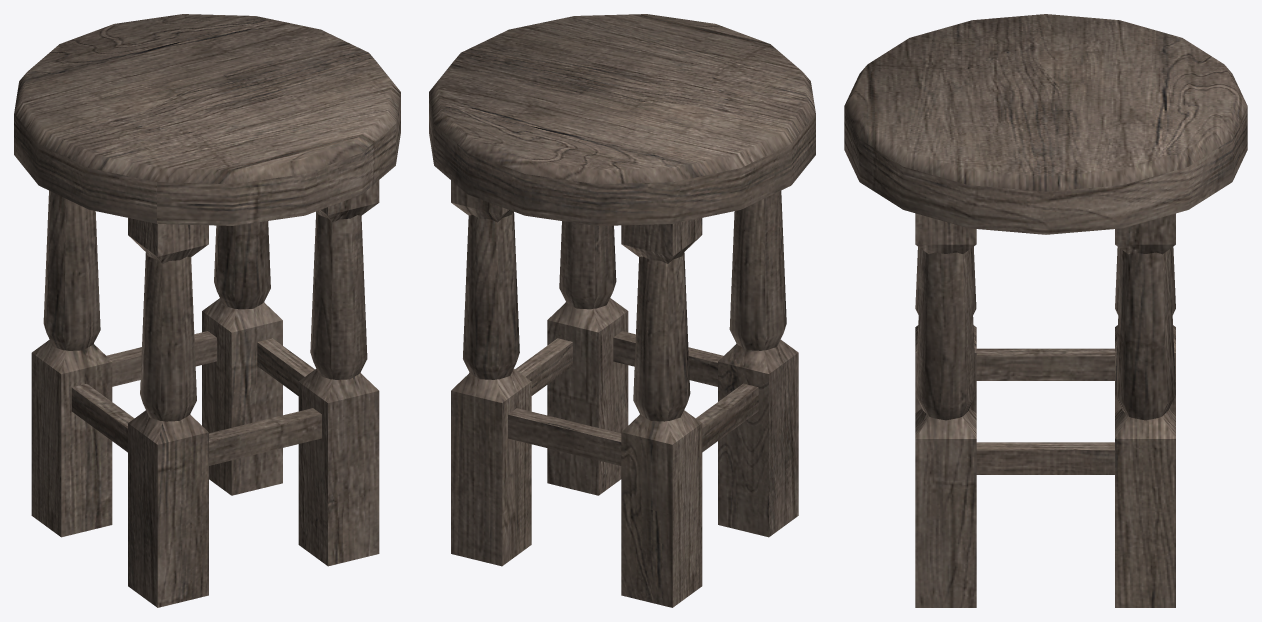
File: mw_stool_02.FBX
3 renders of one model, left to right at view 1: azimuth 30°, elevation 25°; view 2: azimuth 150°, elevation 25°; view 3: azimuth 270°, elevation 25°, orthographic. The views are drawn at different scales.
Visible parts, largest first — view 1: mw_stool_02; view 2: mw_stool_02; view 3: mw_stool_02.
Boxes of the visible parts, x1,y1,x2,y2 form: mw_stool_02: [14, 14, 400, 607]; mw_stool_02: [429, 14, 815, 607]; mw_stool_02: [844, 14, 1247, 607].
Size of the model in its own units: 53.32 by 66.68 by 53.32.
